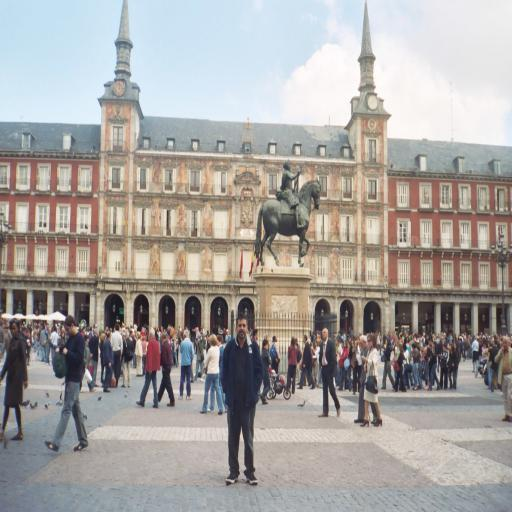horse: (254, 176, 320, 268)
